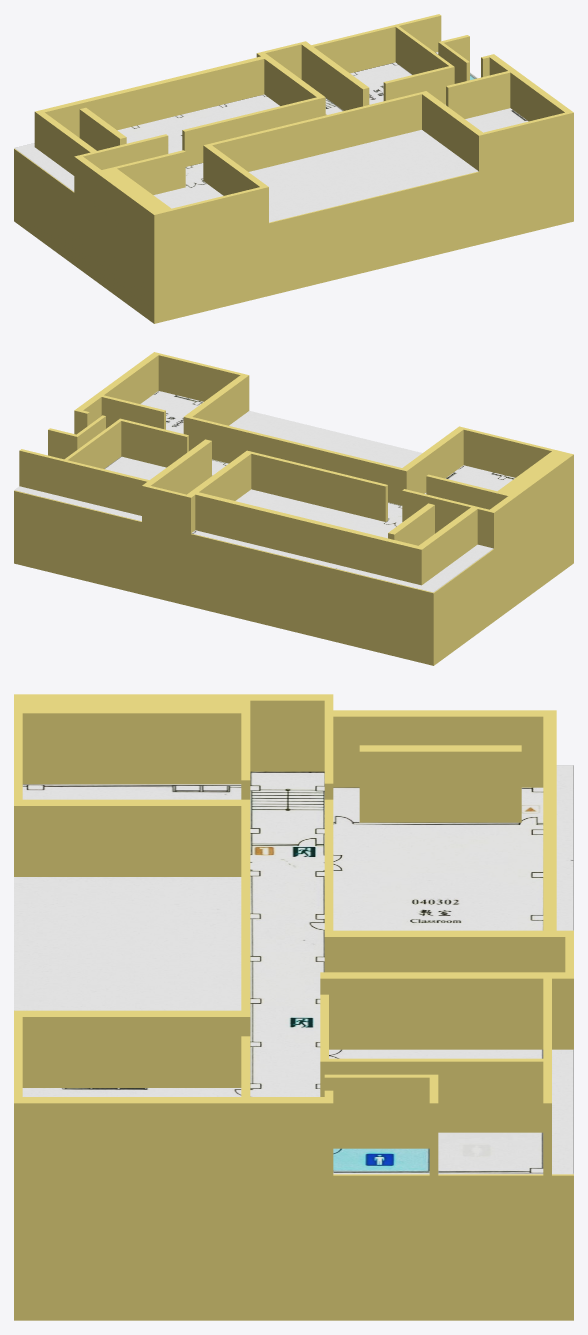
The model's file is Syue-Sih-3F-cube.glb.
3 renders of one model, top to bottom at view 1: azimuth 30°, elevation 25°; view 2: azimuth 150°, elevation 25°; view 3: azimuth 270°, elevation 25°, orthographic. The views are drawn at different scales.
Parts seen in each view (by area): view 1: Cube, Plane; view 2: Cube, Plane; view 3: Cube, Plane.
Part boxes in pixels (x1=…): Cube: x1=14, y1=14, x2=573, y2=323; Plane: x1=14, y1=52, x2=528, y2=222; Cube: x1=14, y1=352, x2=573, y2=665; Plane: x1=14, y1=391, x2=514, y2=592; Cube: x1=14, y1=694, x2=573, y2=1320; Plane: x1=14, y1=765, x2=573, y2=1174.
Size of the model in its own units: 12.1 by 3 by 7.
Materials: 2 (1 with a texture image).
